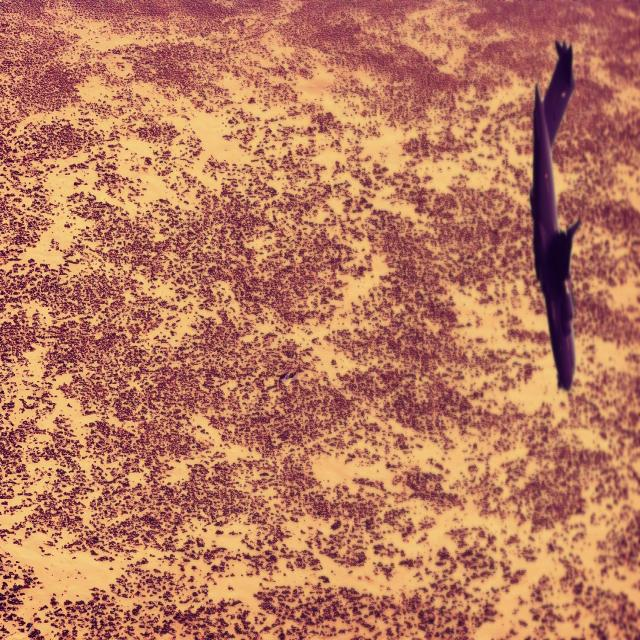airplane: (528, 39, 580, 391)
